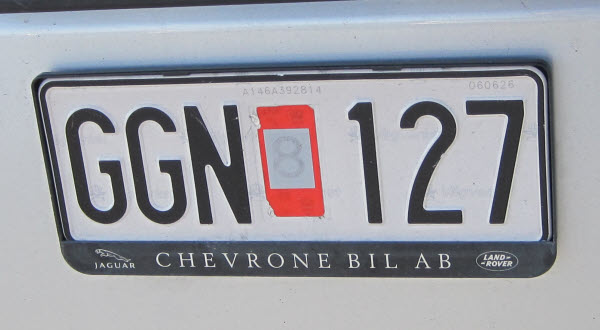license_plate: (40, 64, 551, 249)
